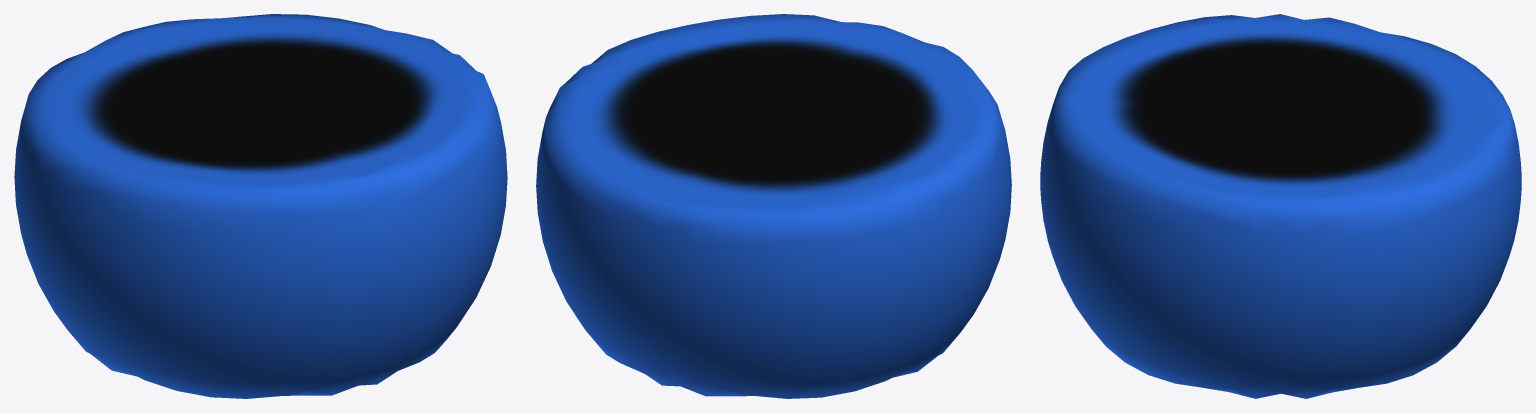
The model's file is Enemy06_3.fbx.
3 views of the same model, side by side, from view 1: azimuth 30°, elevation 25°; view 2: azimuth 150°, elevation 25°; view 3: azimuth 270°, elevation 25° (orthographic). The views are drawn at different scales.
Visible parts, largest first — view 1: Enemy06_3; view 2: Enemy06_3; view 3: Enemy06_3.
Part boxes in pixels (x1,y1,x2,y2): Enemy06_3: (14,14,507,398); Enemy06_3: (536,14,1011,398); Enemy06_3: (1040,14,1521,398).
Bounding box in the file's own units: 200 × 102 × 200.
Materials: 1 (1 with a texture image).
